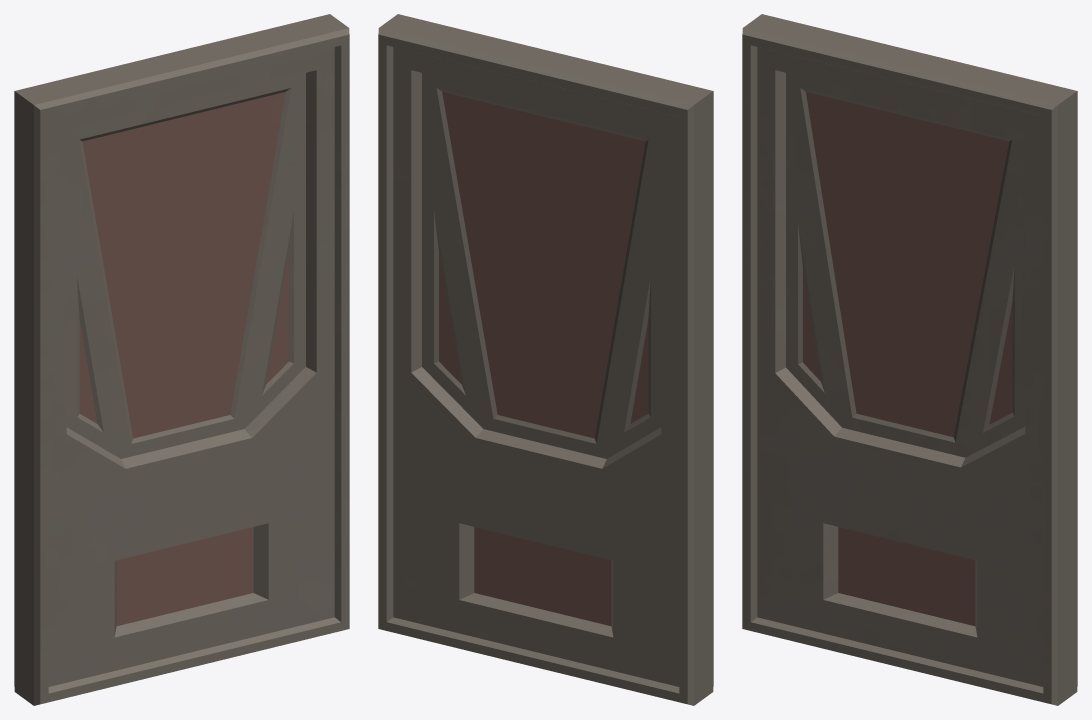
3 renders of one model, left to right at view 1: azimuth 30°, elevation 25°; view 2: azimuth 150°, elevation 25°; view 3: azimuth 330°, elevation 25°, orthographic.
Parts seen in each view (by area): view 1: SM_H1_D1; view 2: SM_H1_D1; view 3: SM_H1_D1.
Boxes of the visible parts, x1,y1,x2,y2 form: SM_H1_D1: [14, 14, 349, 705]; SM_H1_D1: [378, 14, 713, 705]; SM_H1_D1: [742, 14, 1077, 705].
Bounding box in the file's own units: 150 × 21.4 × 274.
1 material, 1 textured.
